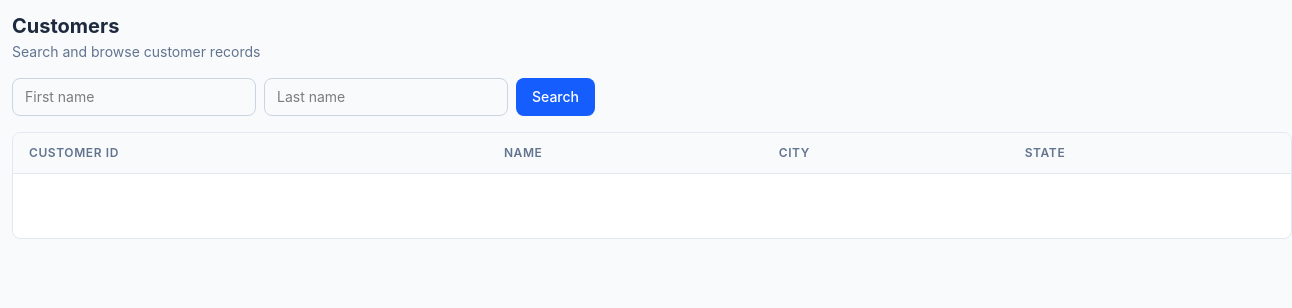
Test: CustomersPage › shows error state with retry
This screenshot has width=1292, height=308.
What coordinates should you click on to do the following:
click the button "Search"
I would click on:
 (556, 97)
Its box is [516,78,595,116].
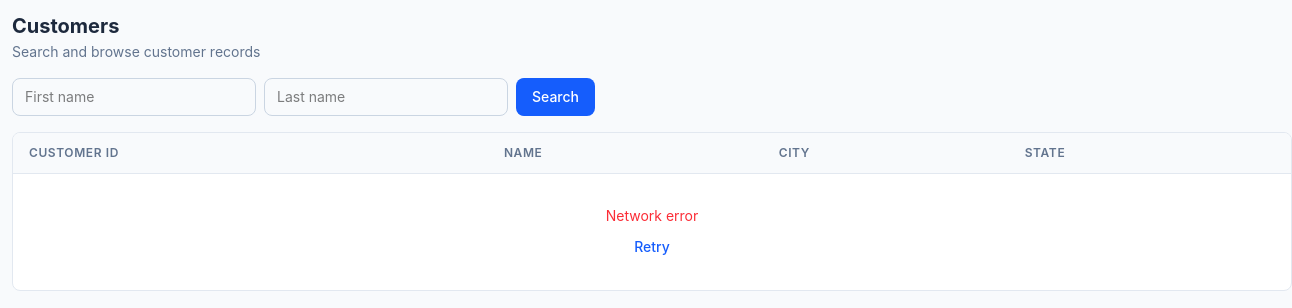
Expected: the text "Network error" is shown, [606,207,698,224]
Expected: the button "Retry" is shown, [634,237,670,257]
